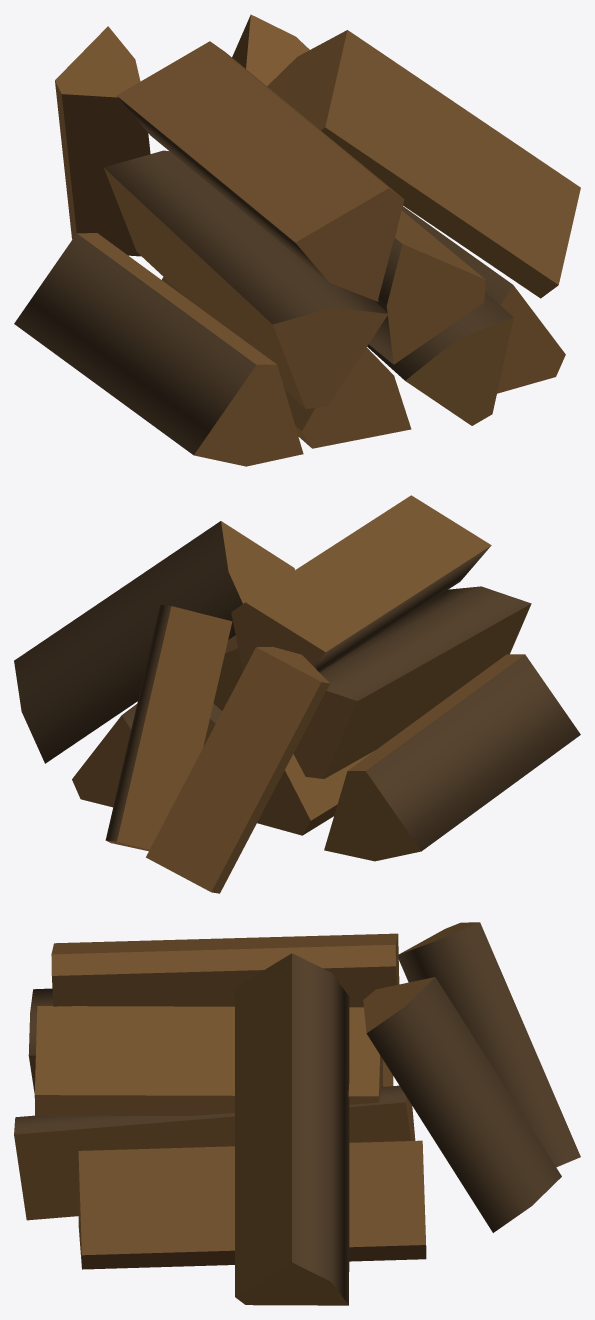
Rendered from fire_wood.gltf.
3 views of the same model, one above another, from view 1: azimuth 30°, elevation 25°; view 2: azimuth 150°, elevation 25°; view 3: azimuth 270°, elevation 25° (orthographic). The views are drawn at different scales.
Parts seen in each view (by area): view 1: FirewoodStack; view 2: FirewoodStack; view 3: FirewoodStack.
Part boxes in pixels (box(x1,y1,x2,y2)): FirewoodStack: box(14, 14, 580, 466); FirewoodStack: box(14, 495, 580, 893); FirewoodStack: box(14, 922, 580, 1305).
Bounding box in the file's own units: 1.38 × 0.7537 × 1.41.
Materials: 1 (1 with a texture image).
